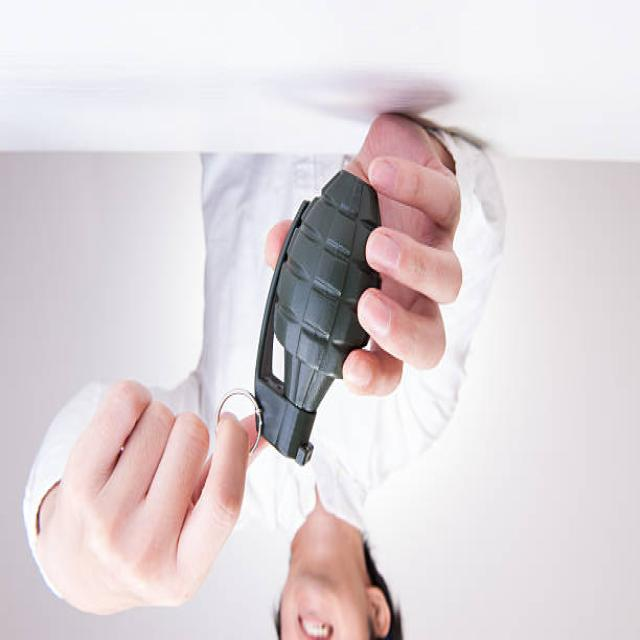grenade: (251, 170, 388, 468)
